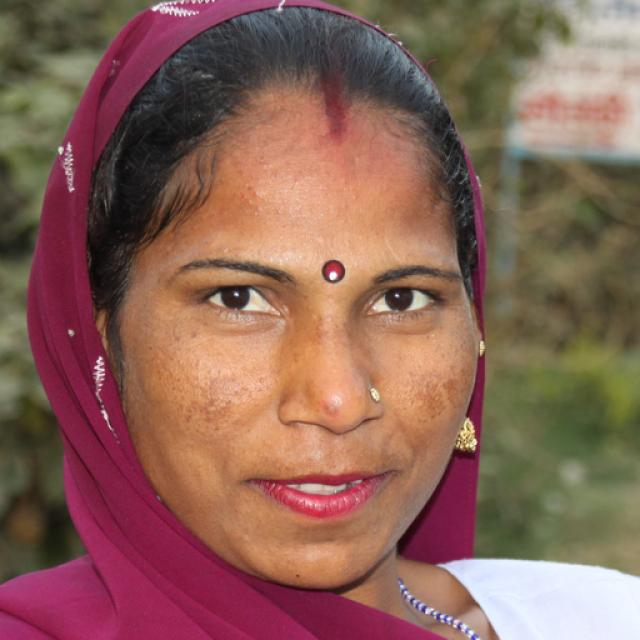Acne: (239, 182, 262, 207), (241, 205, 268, 219)
Pigmentation: (157, 360, 269, 438), (392, 361, 477, 424), (437, 319, 477, 356)
